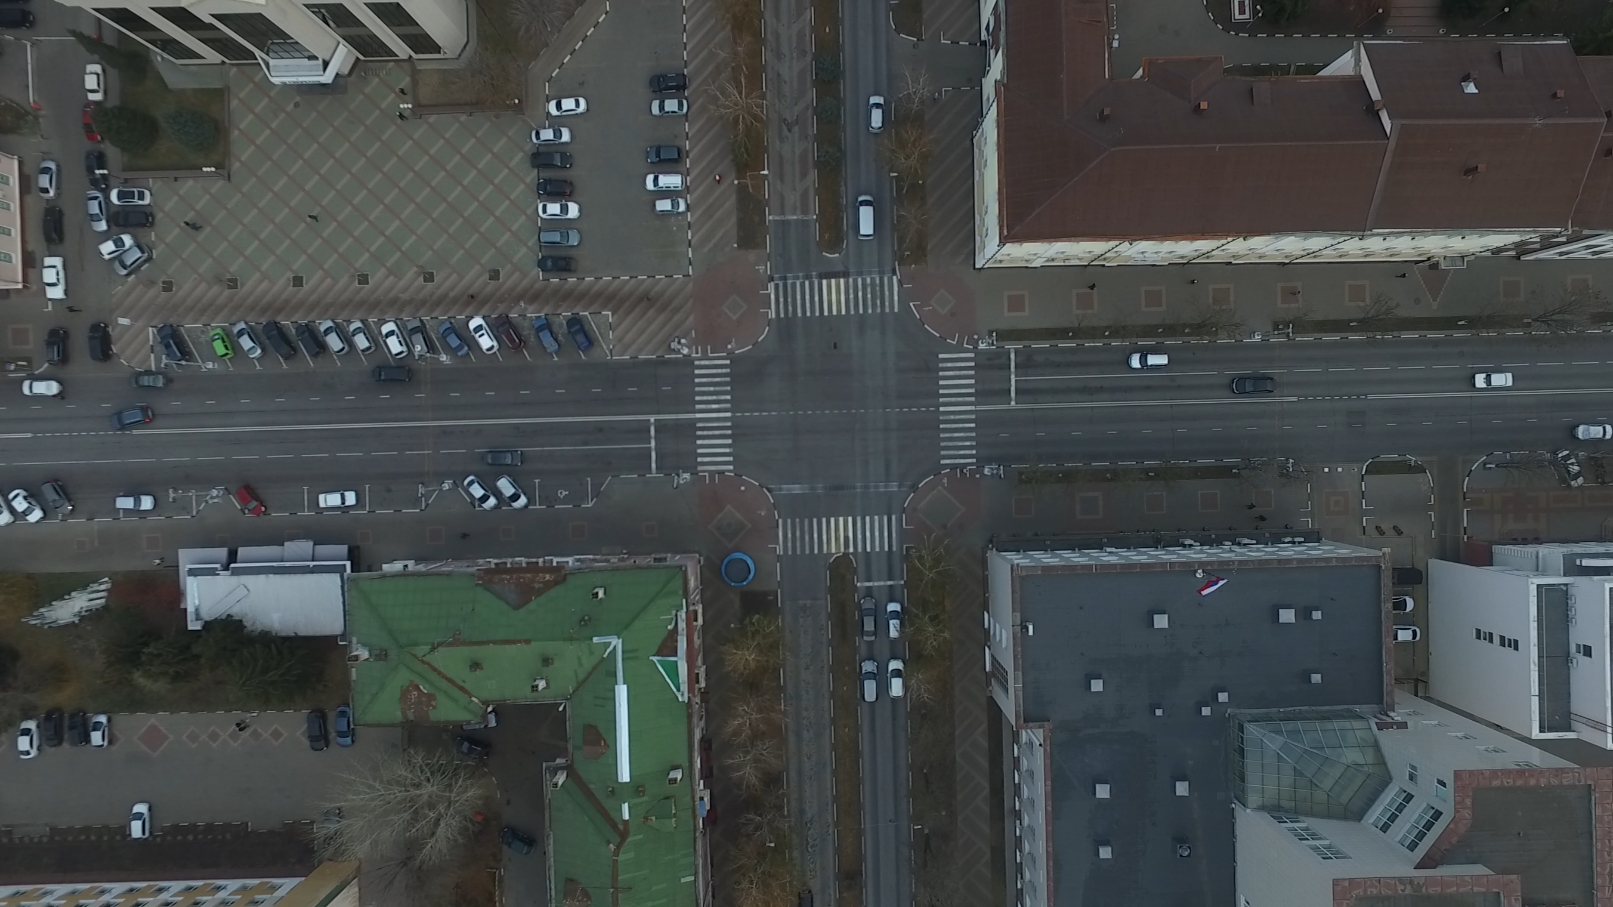car: (156, 318, 196, 360), (109, 241, 154, 277), (266, 316, 301, 358), (39, 256, 70, 302), (462, 473, 499, 511), (321, 315, 356, 354), (41, 480, 76, 517), (107, 401, 152, 431), (1553, 449, 1585, 489), (495, 309, 530, 347), (469, 315, 503, 352), (440, 317, 474, 354), (8, 487, 45, 522), (499, 824, 537, 856), (405, 313, 434, 357), (321, 804, 348, 848), (496, 475, 530, 511), (235, 317, 267, 353), (455, 734, 494, 764), (349, 315, 380, 351), (534, 315, 564, 352), (86, 320, 112, 363), (80, 104, 105, 147), (298, 318, 329, 353), (35, 158, 62, 199), (129, 801, 154, 843), (86, 190, 112, 233), (304, 710, 328, 753), (99, 231, 135, 260), (85, 148, 111, 189), (235, 483, 266, 516), (383, 318, 410, 355), (566, 315, 595, 349), (111, 186, 155, 208), (41, 707, 64, 749), (859, 658, 880, 704), (332, 704, 355, 748), (530, 150, 577, 169), (83, 61, 105, 103), (855, 196, 876, 240), (44, 326, 66, 367), (859, 597, 879, 642), (20, 377, 62, 398), (64, 710, 88, 748), (649, 73, 690, 94), (17, 718, 37, 761), (538, 228, 582, 248), (112, 207, 155, 227), (643, 172, 685, 192), (547, 96, 586, 117), (537, 255, 581, 274), (1231, 377, 1276, 394), (317, 489, 357, 509), (867, 94, 887, 134), (538, 202, 581, 220), (530, 126, 571, 145), (647, 97, 688, 116), (1, 7, 38, 28), (1127, 350, 1170, 368), (535, 177, 575, 196), (42, 207, 62, 245), (127, 371, 167, 390), (484, 450, 524, 468), (373, 365, 415, 383), (88, 713, 109, 748), (210, 321, 233, 353), (1472, 371, 1514, 388), (654, 195, 690, 214), (1573, 424, 1612, 442), (113, 494, 156, 509), (888, 658, 904, 701), (1391, 569, 1422, 590), (644, 147, 684, 163), (886, 600, 902, 639), (1393, 628, 1420, 645), (1391, 595, 1412, 615)
